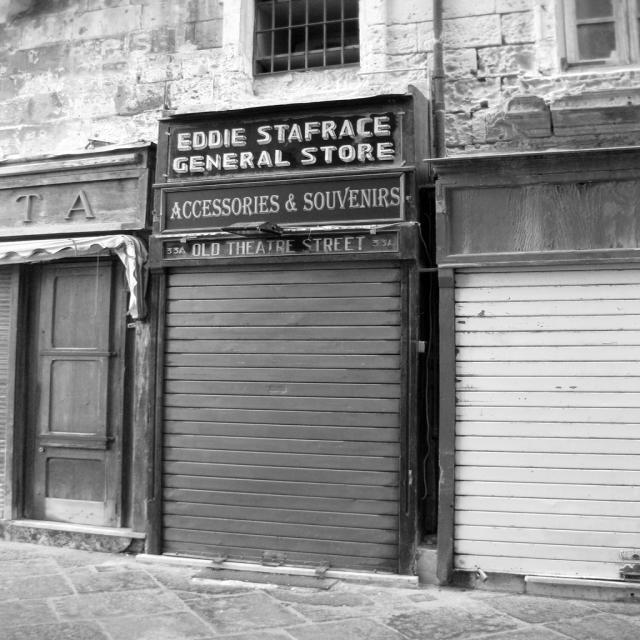door: (0, 237, 142, 553)
